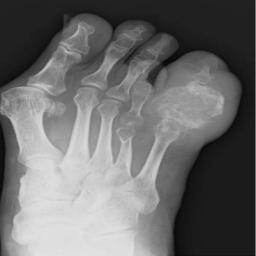cancer: (149, 85, 227, 132)
